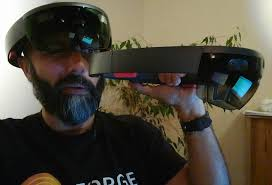hololens: (90, 45, 267, 115), (3, 3, 116, 68)
